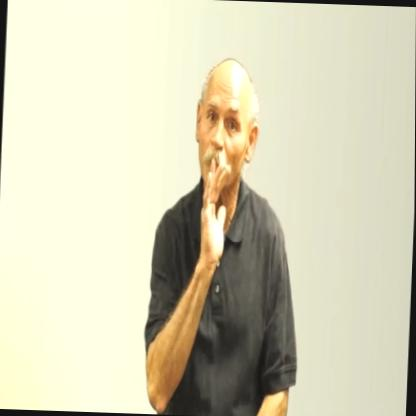Talk: (184, 36, 263, 282)
